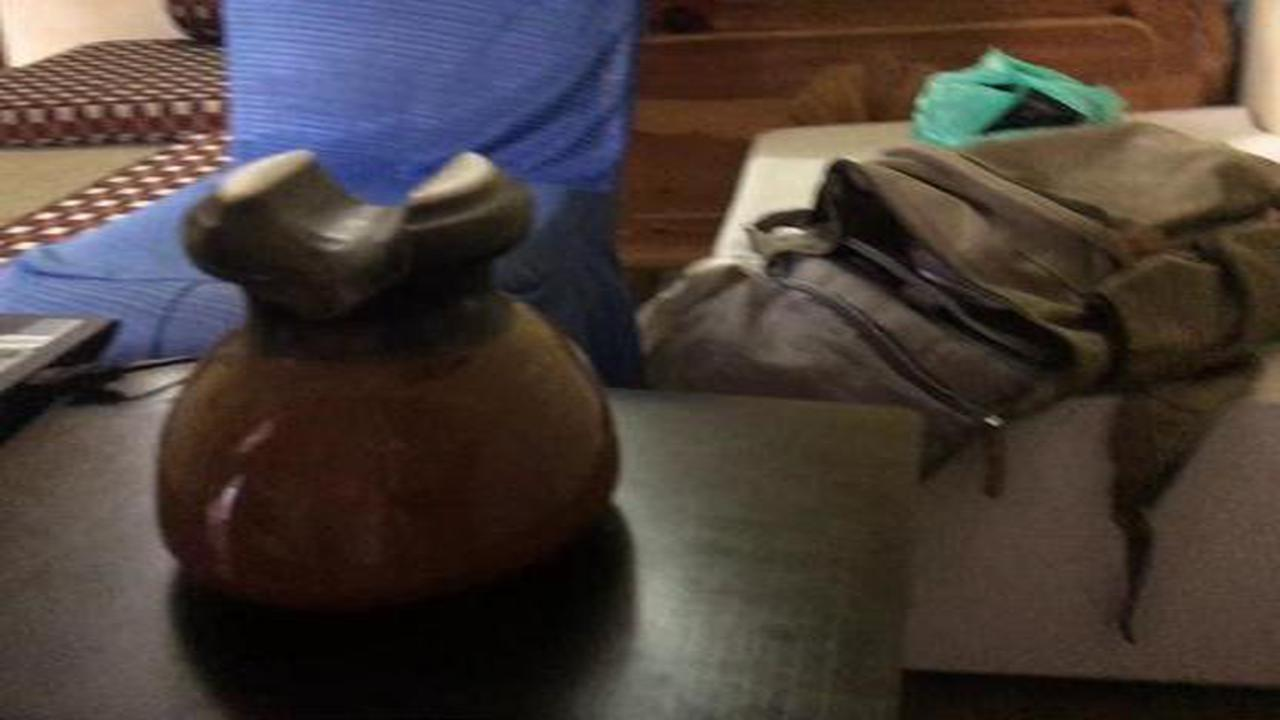insulator_pin: (133, 132, 647, 627)
